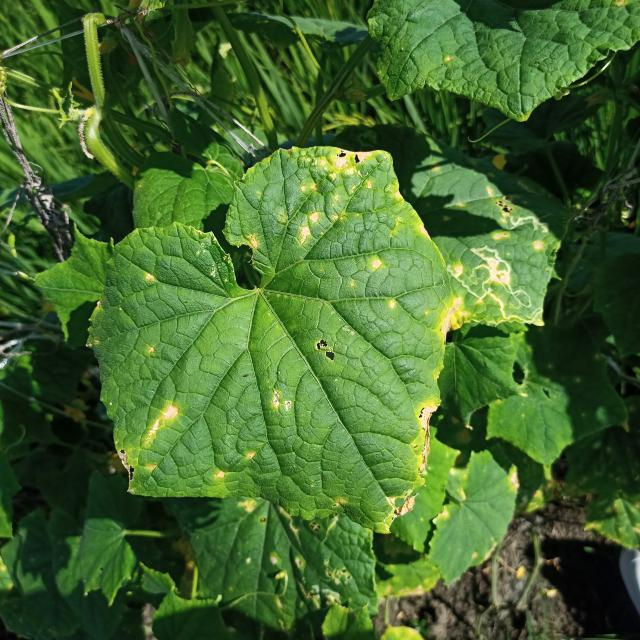disease_cucumber: (281, 147, 389, 241), (413, 401, 449, 465), (139, 403, 183, 447), (269, 387, 294, 414), (367, 256, 385, 274), (384, 298, 400, 312), (243, 450, 260, 463), (144, 270, 154, 286), (213, 470, 227, 481)
